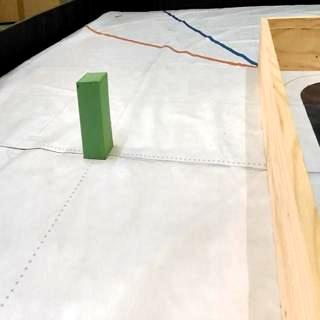greenbox: (77, 73, 112, 160)
